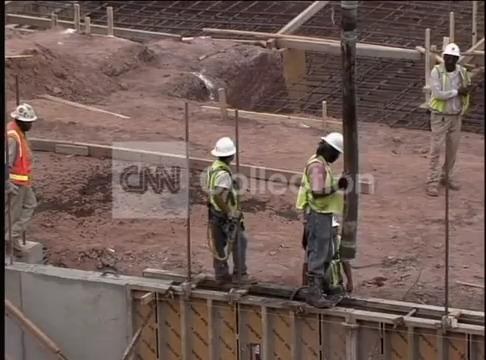Helmet: (321, 129, 348, 154), (9, 102, 37, 122), (210, 136, 236, 157), (442, 42, 460, 57)
Person: (296, 127, 355, 312), (421, 37, 476, 196), (199, 136, 256, 285), (4, 102, 38, 260)
Safety Boot: (5, 238, 28, 259), (309, 291, 335, 306), (230, 272, 257, 285), (443, 180, 462, 190), (425, 184, 438, 196)
Safety Vest: (308, 165, 338, 213), (211, 166, 239, 214), (434, 69, 466, 111), (7, 128, 28, 182)
bare-arms: (456, 84, 469, 98)
